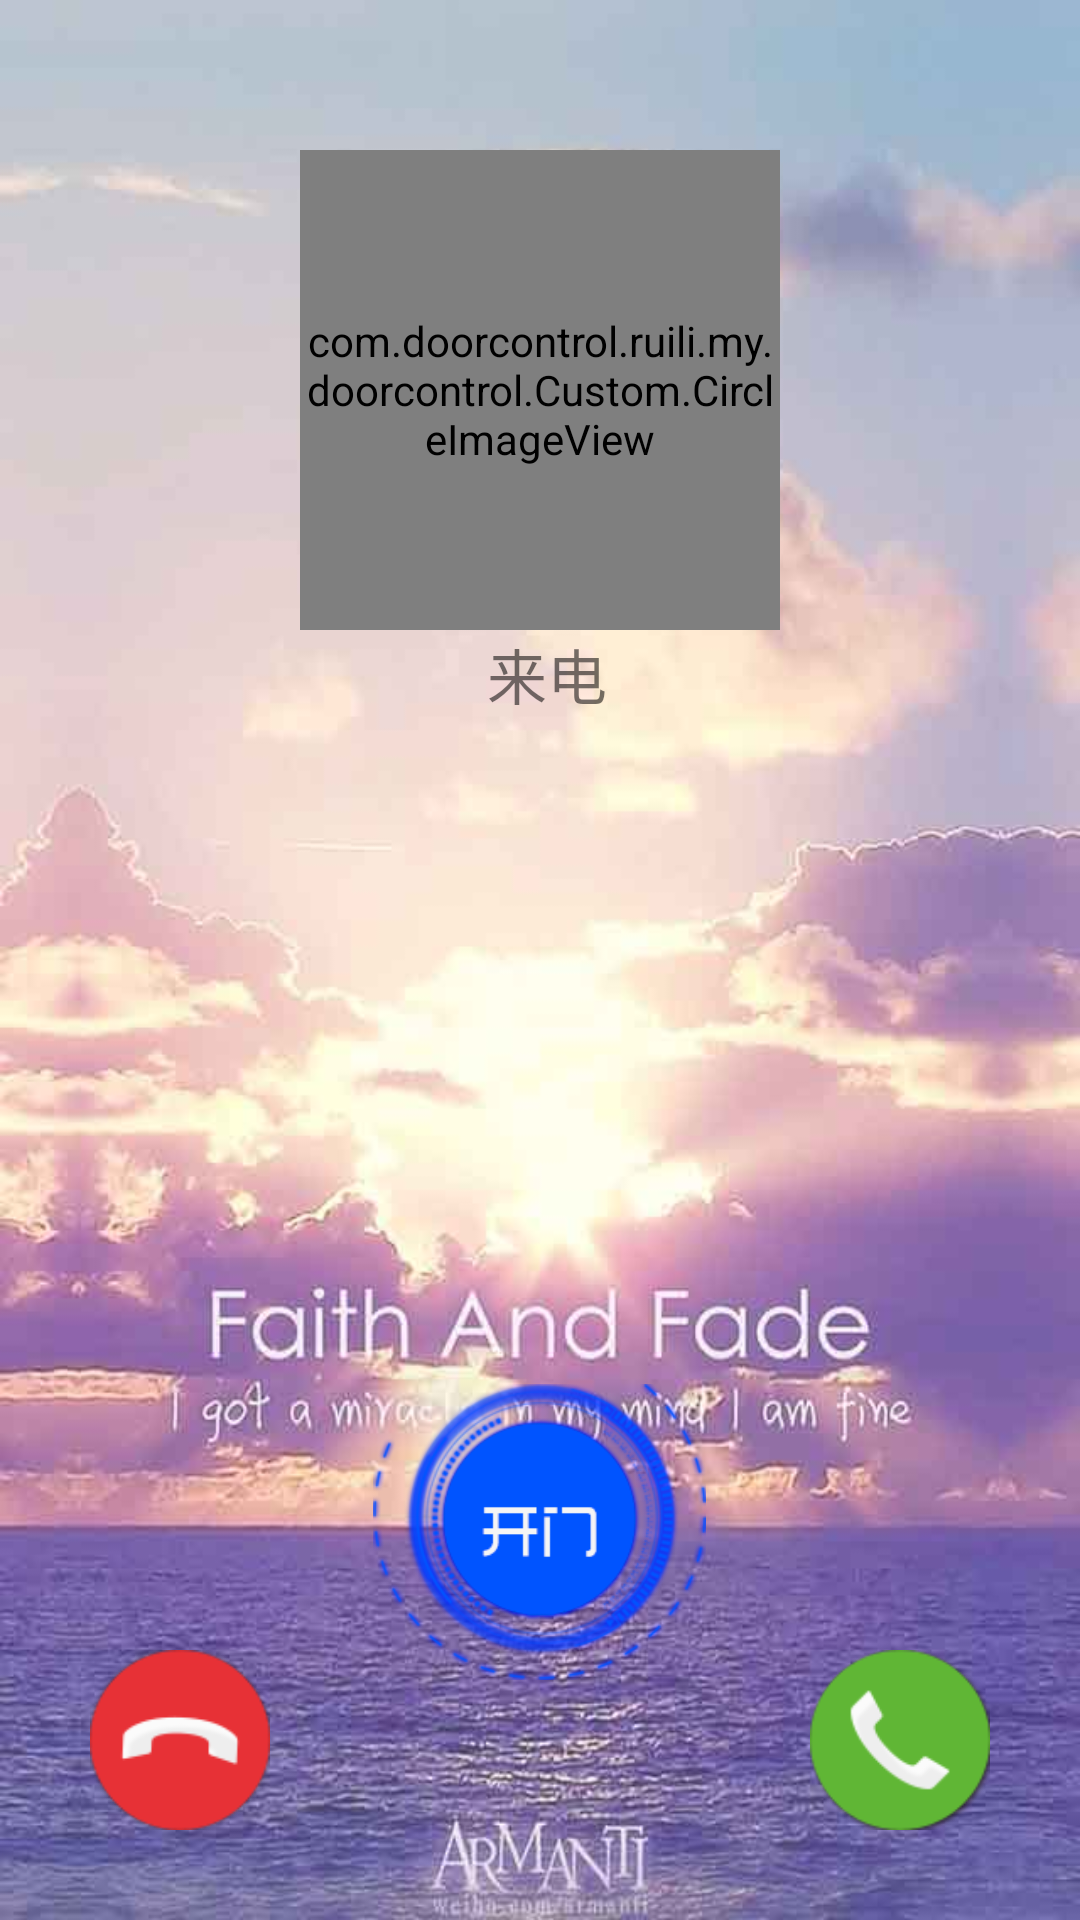

Named icons in this screenshot (1080 × 1920) and their centers, [x,y]:
call answer: [900,1740]
call hangup: [180,1740]
